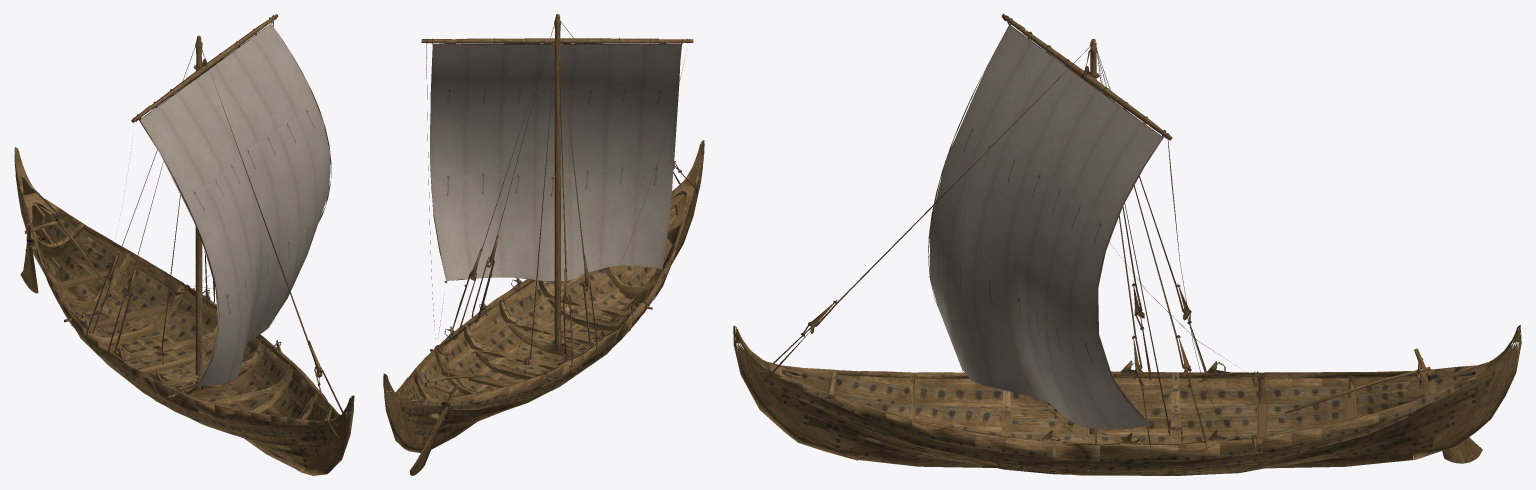
Rendered from transport.glb.
3 renders of one model, left to right at view 1: azimuth 30°, elevation 25°; view 2: azimuth 150°, elevation 25°; view 3: azimuth 270°, elevation 25°, orthographic. The views are drawn at different scales.
Parts seen in each view (by area): view 1: Sail Full_Sail Full_0, Planking_Ship Oak Aged_0, Frames_Ship Oak Aged_0, Stems_Ship Oak Aged_0, Stringer_Ship Oak Aged_0, Keel_Ship Oak Aged_0, Mast_Ship Oak Aged_0, Shrouds_Ship Oak Aged_0, Yard_Ship Oak Aged_0, Sail Ropes_Ship Oak Aged_0, Stay_Ship Oak Aged_0, Rudder_Ship Oak Aged_0 (+1 smaller); view 2: Sail Full_Sail Full_0, Planking_Ship Oak Aged_0, Frames_Ship Oak Aged_0, Shrouds_Ship Oak Aged_0, Stems_Ship Oak Aged_0, Mast_Ship Oak Aged_0, Yard_Ship Oak Aged_0, Stringer_Ship Oak Aged_0, Keel_Ship Oak Aged_0, Sail Ropes_Ship Oak Aged_0, Rudder_Ship Oak Aged_0, Yard Rope_Ship Oak Aged_0; view 3: Sail Full_Sail Full_0, Planking_Ship Oak Aged_0, Stems_Ship Oak Aged_0, Stringer_Ship Oak Aged_0, Frames_Ship Oak Aged_0, Shrouds_Ship Oak Aged_0, Keel_Ship Oak Aged_0, Sail Ropes_Ship Oak Aged_0, Yard_Ship Oak Aged_0, Stay_Ship Oak Aged_0, Rudder_Ship Oak Aged_0.
Part boxes in pixels (left/top/right/bottom): Sail Full_Sail Full_0: left=138, top=23, right=330, bottom=386; Planking_Ship Oak Aged_0: left=20, top=191, right=340, bottom=467; Frames_Ship Oak Aged_0: left=23, top=192, right=337, bottom=440; Stems_Ship Oak Aged_0: left=14, top=147, right=354, bottom=475; Stringer_Ship Oak Aged_0: left=35, top=225, right=331, bottom=417; Keel_Ship Oak Aged_0: left=65, top=288, right=299, bottom=471; Mast_Ship Oak Aged_0: left=195, top=35, right=202, bottom=389; Shrouds_Ship Oak Aged_0: left=86, top=46, right=214, bottom=356; Yard_Ship Oak Aged_0: left=131, top=14, right=278, bottom=122; Sail Ropes_Ship Oak Aged_0: left=76, top=20, right=331, bottom=391; Stay_Ship Oak Aged_0: left=196, top=38, right=343, bottom=438; Rudder_Ship Oak Aged_0: left=20, top=220, right=64, bottom=293; Sail Full_Sail Full_0: left=430, top=44, right=681, bottom=281; Planking_Ship Oak Aged_0: left=395, top=181, right=698, bottom=447; Frames_Ship Oak Aged_0: left=414, top=183, right=694, bottom=415; Shrouds_Ship Oak Aged_0: left=452, top=18, right=597, bottom=367; Stems_Ship Oak Aged_0: left=383, top=140, right=704, bottom=452; Mast_Ship Oak Aged_0: left=554, top=14, right=561, bottom=350; Yard_Ship Oak Aged_0: left=421, top=37, right=693, bottom=46; Stringer_Ship Oak Aged_0: left=402, top=223, right=682, bottom=396; Keel_Ship Oak Aged_0: left=431, top=275, right=652, bottom=449; Sail Ropes_Ship Oak Aged_0: left=426, top=43, right=685, bottom=344; Rudder_Ship Oak Aged_0: left=409, top=382, right=458, bottom=475; Yard Rope_Ship Oak Aged_0: left=524, top=41, right=555, bottom=365; Sail Full_Sail Full_0: left=929, top=25, right=1163, bottom=428; Planking_Ship Oak Aged_0: left=759, top=362, right=1497, bottom=475; Stems_Ship Oak Aged_0: left=733, top=325, right=1521, bottom=460; Stringer_Ship Oak Aged_0: left=837, top=360, right=1417, bottom=445; Frames_Ship Oak Aged_0: left=770, top=364, right=1487, bottom=470; Shrouds_Ship Oak Aged_0: left=1096, top=44, right=1207, bottom=452; Keel_Ship Oak Aged_0: left=858, top=450, right=1413, bottom=468; Sail Ropes_Ship Oak Aged_0: left=928, top=25, right=1241, bottom=444; Yard_Ship Oak Aged_0: left=1001, top=14, right=1172, bottom=140; Stay_Ship Oak Aged_0: left=758, top=42, right=1096, bottom=385; Rudder_Ship Oak Aged_0: left=1414, top=348, right=1482, bottom=463.
Size of the model in its own units: 2.2 by 3.25 by 5.4.
Materials: 2 (2 with a texture image).
